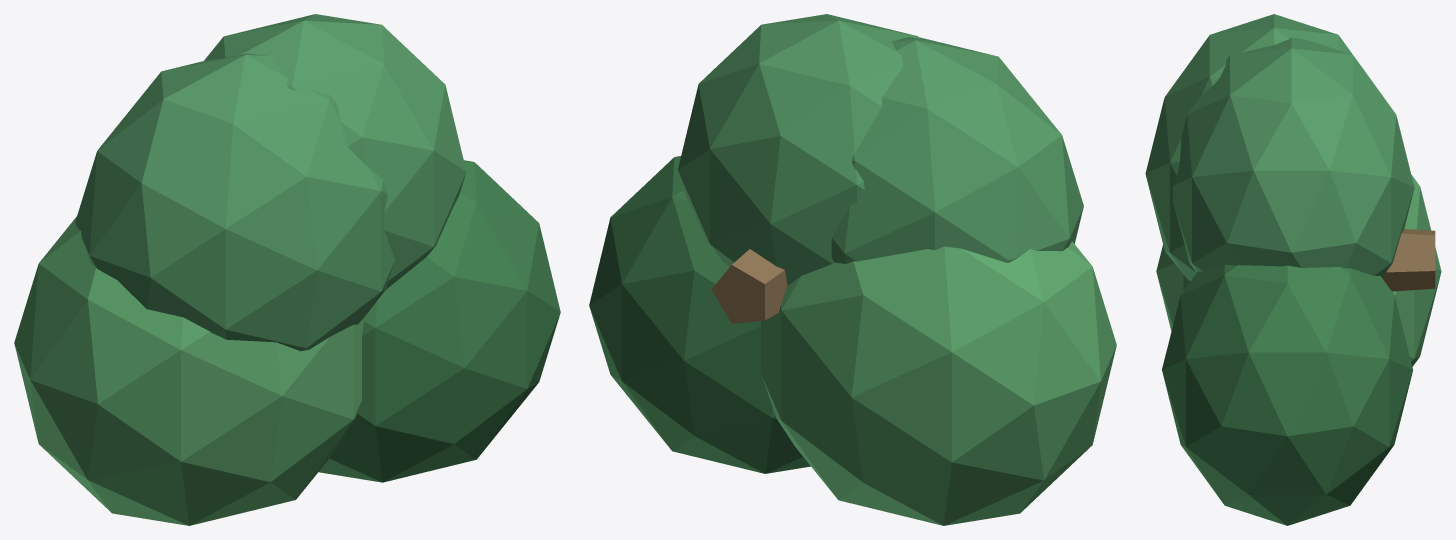
The model's file is bush.glb.
The picture shows the model from 3 angles, left to right: view 1: azimuth 30°, elevation 25°; view 2: azimuth 150°, elevation 25°; view 3: azimuth 270°, elevation 25°; orthographic projection. The views are drawn at different scales.
Visible parts, largest first — view 1: geometry_0; view 2: geometry_0; view 3: geometry_0.
Part boxes in pixels (x1,y1,x2,y2): geometry_0: (14, 14, 560, 525); geometry_0: (589, 14, 1116, 525); geometry_0: (1145, 14, 1441, 525).
Bounding box in the file's own units: 0.5098 × 0.4557 × 0.2865.
